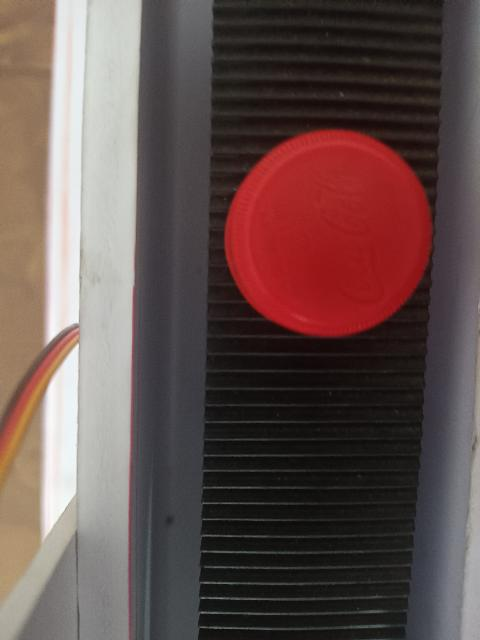bottlecap: (218, 120, 436, 342)
